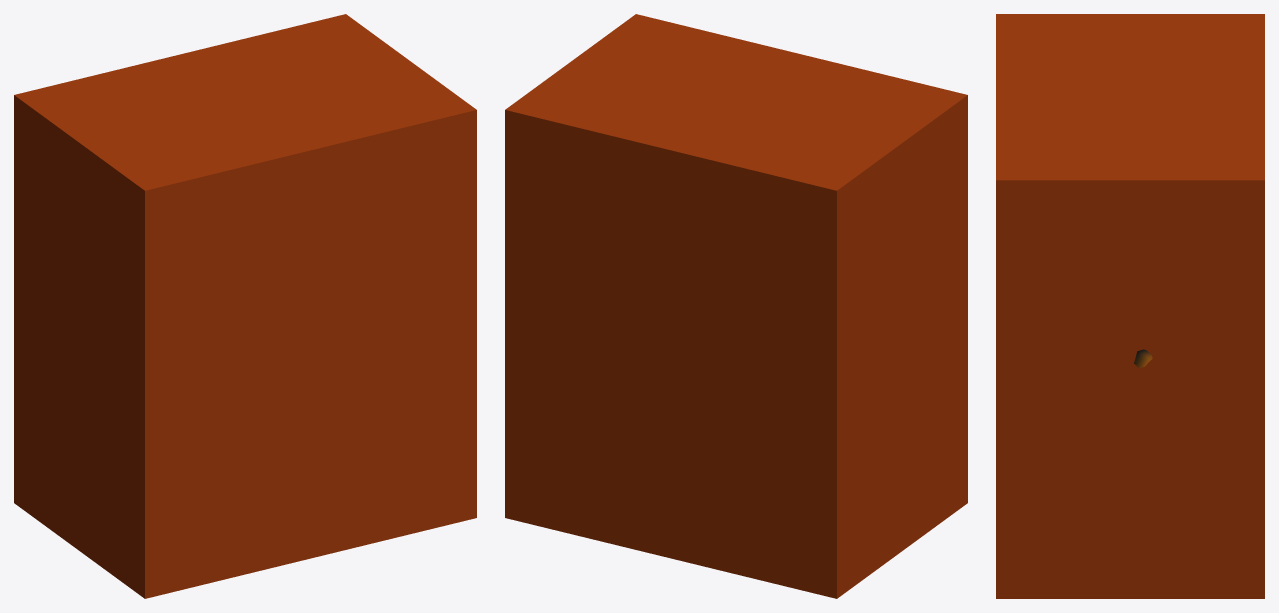
File: MagmaElemental_1_000005.obj
3 views of the same model, side by side, from view 1: azimuth 30°, elevation 25°; view 2: azimuth 150°, elevation 25°; view 3: azimuth 270°, elevation 25° (orthographic). The views are drawn at different scales.
Visible parts, largest first — view 1: Cube; view 2: Cube; view 3: Cube.
Part boxes in pixels (x1=…): Cube: x1=14, y1=14, x2=476, y2=598; Cube: x1=505, y1=14, x2=967, y2=598; Cube: x1=996, y1=14, x2=1264, y2=598.
Bounding box in the file's own units: 3.37 × 3.96 × 2.3.
Materials: 2 (1 with a texture image).
